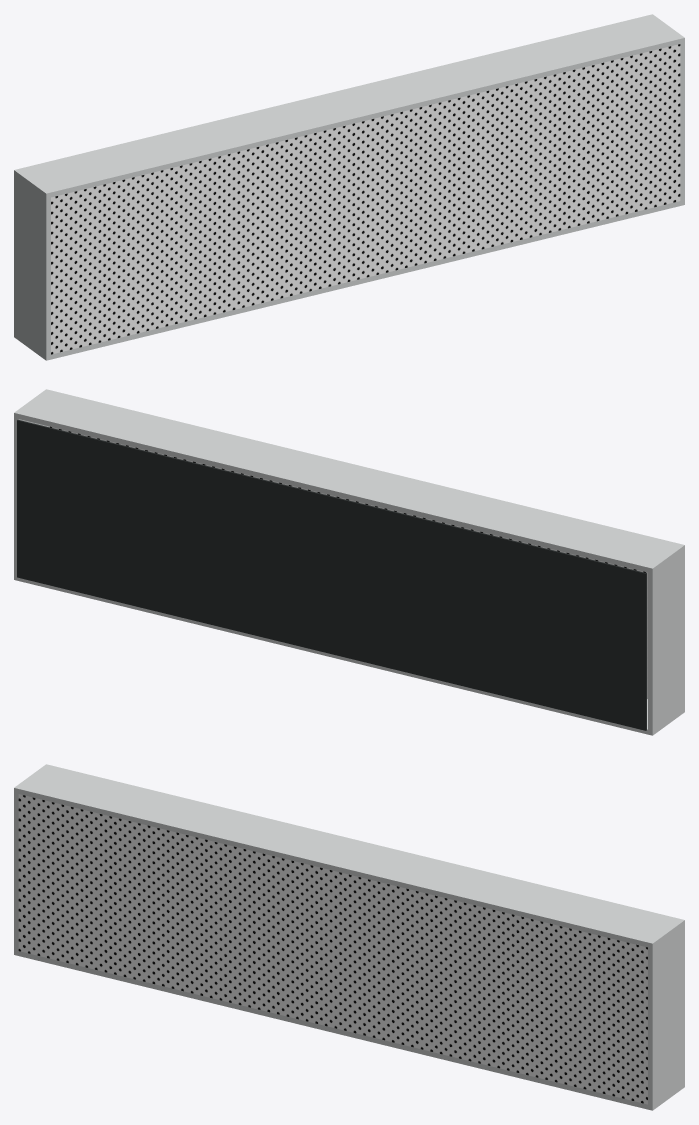
The model's file is ecoclima-egff-400x100.glb.
3 views of the same model, one above another, from view 1: azimuth 30°, elevation 25°; view 2: azimuth 150°, elevation 25°; view 3: azimuth 330°, elevation 25° (orthographic).
Parts seen in each view (by area): view 1: Profile_lamiera_forata.001, Profile_ritorno.120, Profile_ritorno.122, Profile_ritorno.121, Profile_ritorno.123; view 2: Interno.032, Profile_ritorno.120, Profile_ritorno.122, Profile_ritorno.121, Profile_lamiera_forata.001, Profile_ritorno.123; view 3: Profile_lamiera_forata.001, Profile_ritorno.120, Profile_ritorno.123, Profile_ritorno.121, Profile_ritorno.122.
Boxes of the visible parts, x1,y1,x2,y2 form: Profile_lamiera_forata.001: (51,44,680,354); Profile_ritorno.120: (14,14,684,198); Profile_ritorno.122: (14,175,50,355); Profile_ritorno.121: (14,200,684,360); Profile_ritorno.123: (680,43,684,200); Interno.032: (17,420,646,730); Profile_ritorno.120: (14,389,684,573); Profile_ritorno.122: (648,550,684,730); Profile_ritorno.121: (14,575,684,735); Profile_lamiera_forata.001: (50,426,647,698); Profile_ritorno.123: (14,418,49,575); Profile_lamiera_forata.001: (18,794,647,1104); Profile_ritorno.120: (14,764,684,948); Profile_ritorno.123: (648,925,684,1105); Profile_ritorno.121: (14,950,684,1110); Profile_ritorno.122: (14,793,18,950).
Bounding box in the file's own units: 0.4 × 0.1 × 0.037.
3 materials, 1 textured.
